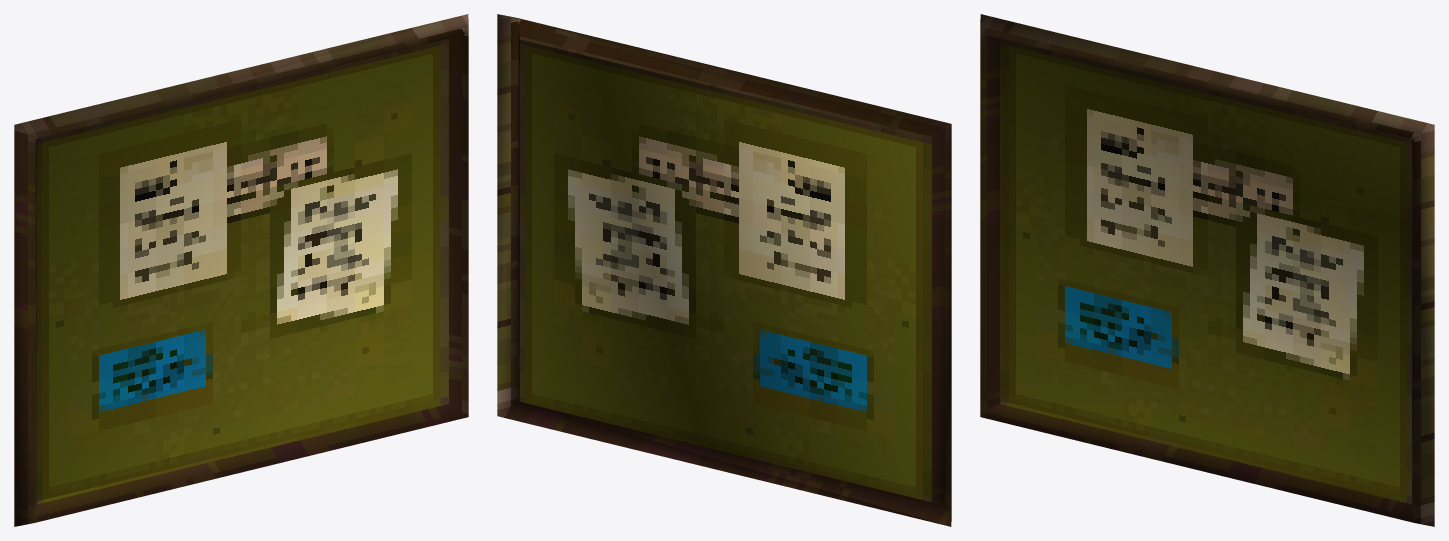
Rendered from NoticeBoard.glb.
3 renders of one model, left to right at view 1: azimuth 30°, elevation 25°; view 2: azimuth 150°, elevation 25°; view 3: azimuth 330°, elevation 25°, orthographic.
Parts seen in each view (by area): view 1: NOTICEBOARD; view 2: NOTICEBOARD; view 3: NOTICEBOARD.
Part boxes in pixels (x1,y1,x2,y2): NOTICEBOARD: (14, 14, 468, 526); NOTICEBOARD: (497, 14, 951, 526); NOTICEBOARD: (980, 14, 1434, 526).
Size of the model in its own units: 1.02 by 0.864 by 0.041.
Materials: 1 (1 with a texture image).
